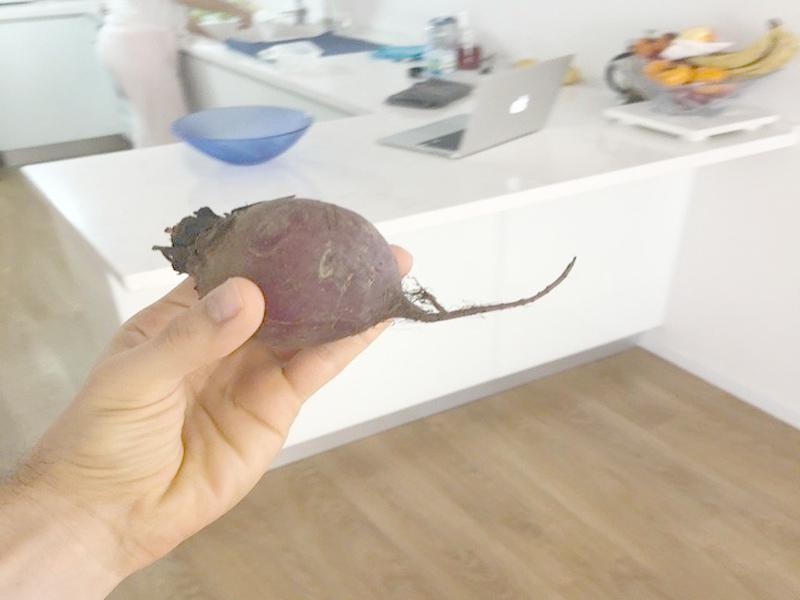Beet: (156, 198, 576, 344)
